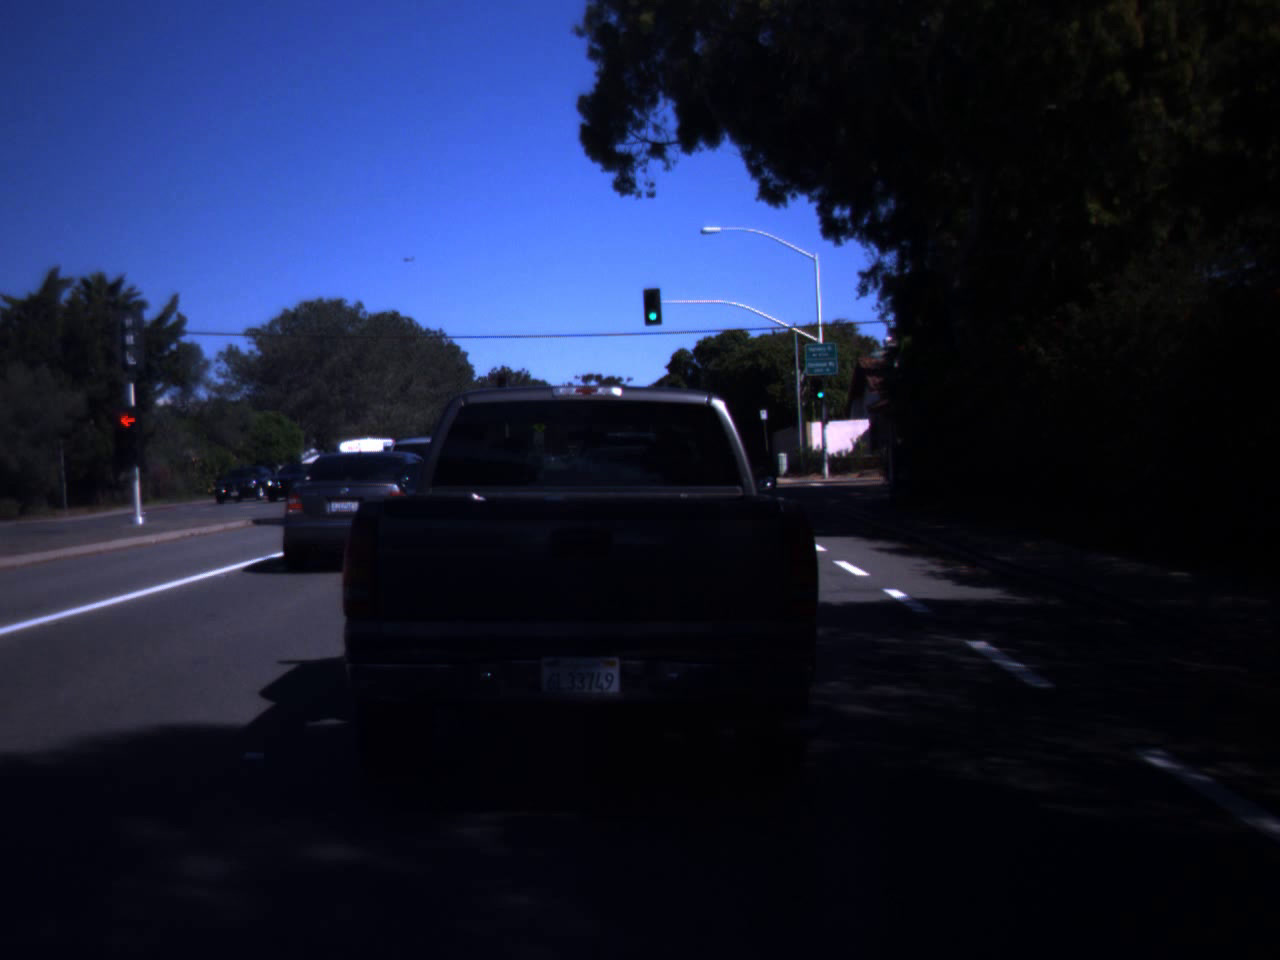go: (644, 288, 662, 323), (814, 378, 826, 398)
stop: (103, 404, 154, 471)
